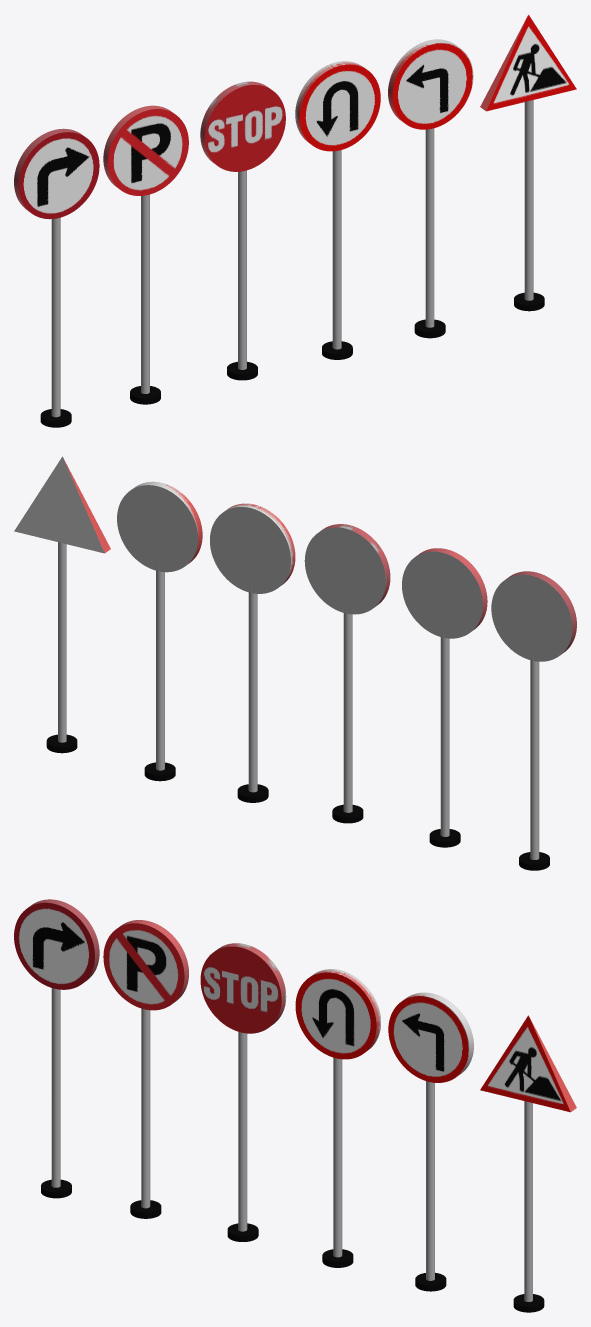
Rendered from traffic_signs.glb.
The picture shows the model from 3 angles, top to bottom: view 1: azimuth 30°, elevation 25°; view 2: azimuth 150°, elevation 25°; view 3: azimuth 330°, elevation 25°; orthographic projection.
Visible parts, largest first — view 1: Object_9, Object_11, Object_13, Object_5, Object_7, Object_15, Object_27, Object_19, Object_21, Object_39, Object_35, Object_29; view 2: Object_9, Object_7, Object_11, Object_5, Object_13, Object_15, Object_39, Object_19, Object_35, Object_29, Object_21, Object_27; view 3: Object_7, Object_9, Object_11, Object_13, Object_5, Object_15, Object_39, Object_29, Object_35, Object_19, Object_27, Object_21.
Boxes of the visible parts, box(x1,y1,x2,y2) form: Object_9: box(200, 81, 285, 171); Object_11: box(295, 61, 380, 151); Object_13: box(388, 39, 473, 129); Object_5: box(103, 105, 188, 195); Object_7: box(14, 128, 99, 219); Object_15: box(480, 14, 576, 111); Object_27: box(524, 100, 533, 300); Object_19: box(332, 150, 341, 349); Object_21: box(425, 128, 434, 327); Object_39: box(51, 217, 60, 417); Object_35: box(238, 170, 246, 369); Object_29: box(141, 194, 149, 393); Object_9: box(304, 524, 390, 614); Object_7: box(491, 571, 576, 661); Object_11: box(210, 503, 295, 593); Object_5: box(402, 548, 487, 638); Object_13: box(117, 481, 202, 572); Object_15: box(14, 456, 110, 553); Object_39: box(530, 653, 539, 859); Object_19: box(248, 585, 257, 792); Object_35: box(343, 606, 352, 812); Object_29: box(440, 630, 449, 836); Object_21: box(156, 564, 164, 770); Object_27: box(58, 542, 66, 742); Object_7: box(14, 899, 99, 989); Object_9: box(200, 943, 286, 1033); Object_11: box(295, 969, 380, 1059); Object_13: box(388, 992, 473, 1082); Object_5: box(103, 920, 188, 1010); Object_15: box(480, 1015, 576, 1112); Object_39: box(51, 988, 60, 1187); Object_29: box(141, 1008, 150, 1208); Object_35: box(238, 1032, 247, 1231); Object_19: box(333, 1057, 342, 1257); Object_27: box(524, 1101, 532, 1301); Object_21: box(426, 1081, 434, 1280).
Size of the model in its own units: 1.25 by 0.6309 by 0.0624.
Materials: 14 (14 with a texture image).
